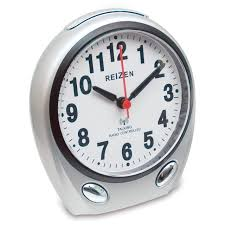alarm_clock: (27, 7, 197, 215), (27, 10, 197, 215), (35, 10, 197, 215), (35, 10, 191, 215)
